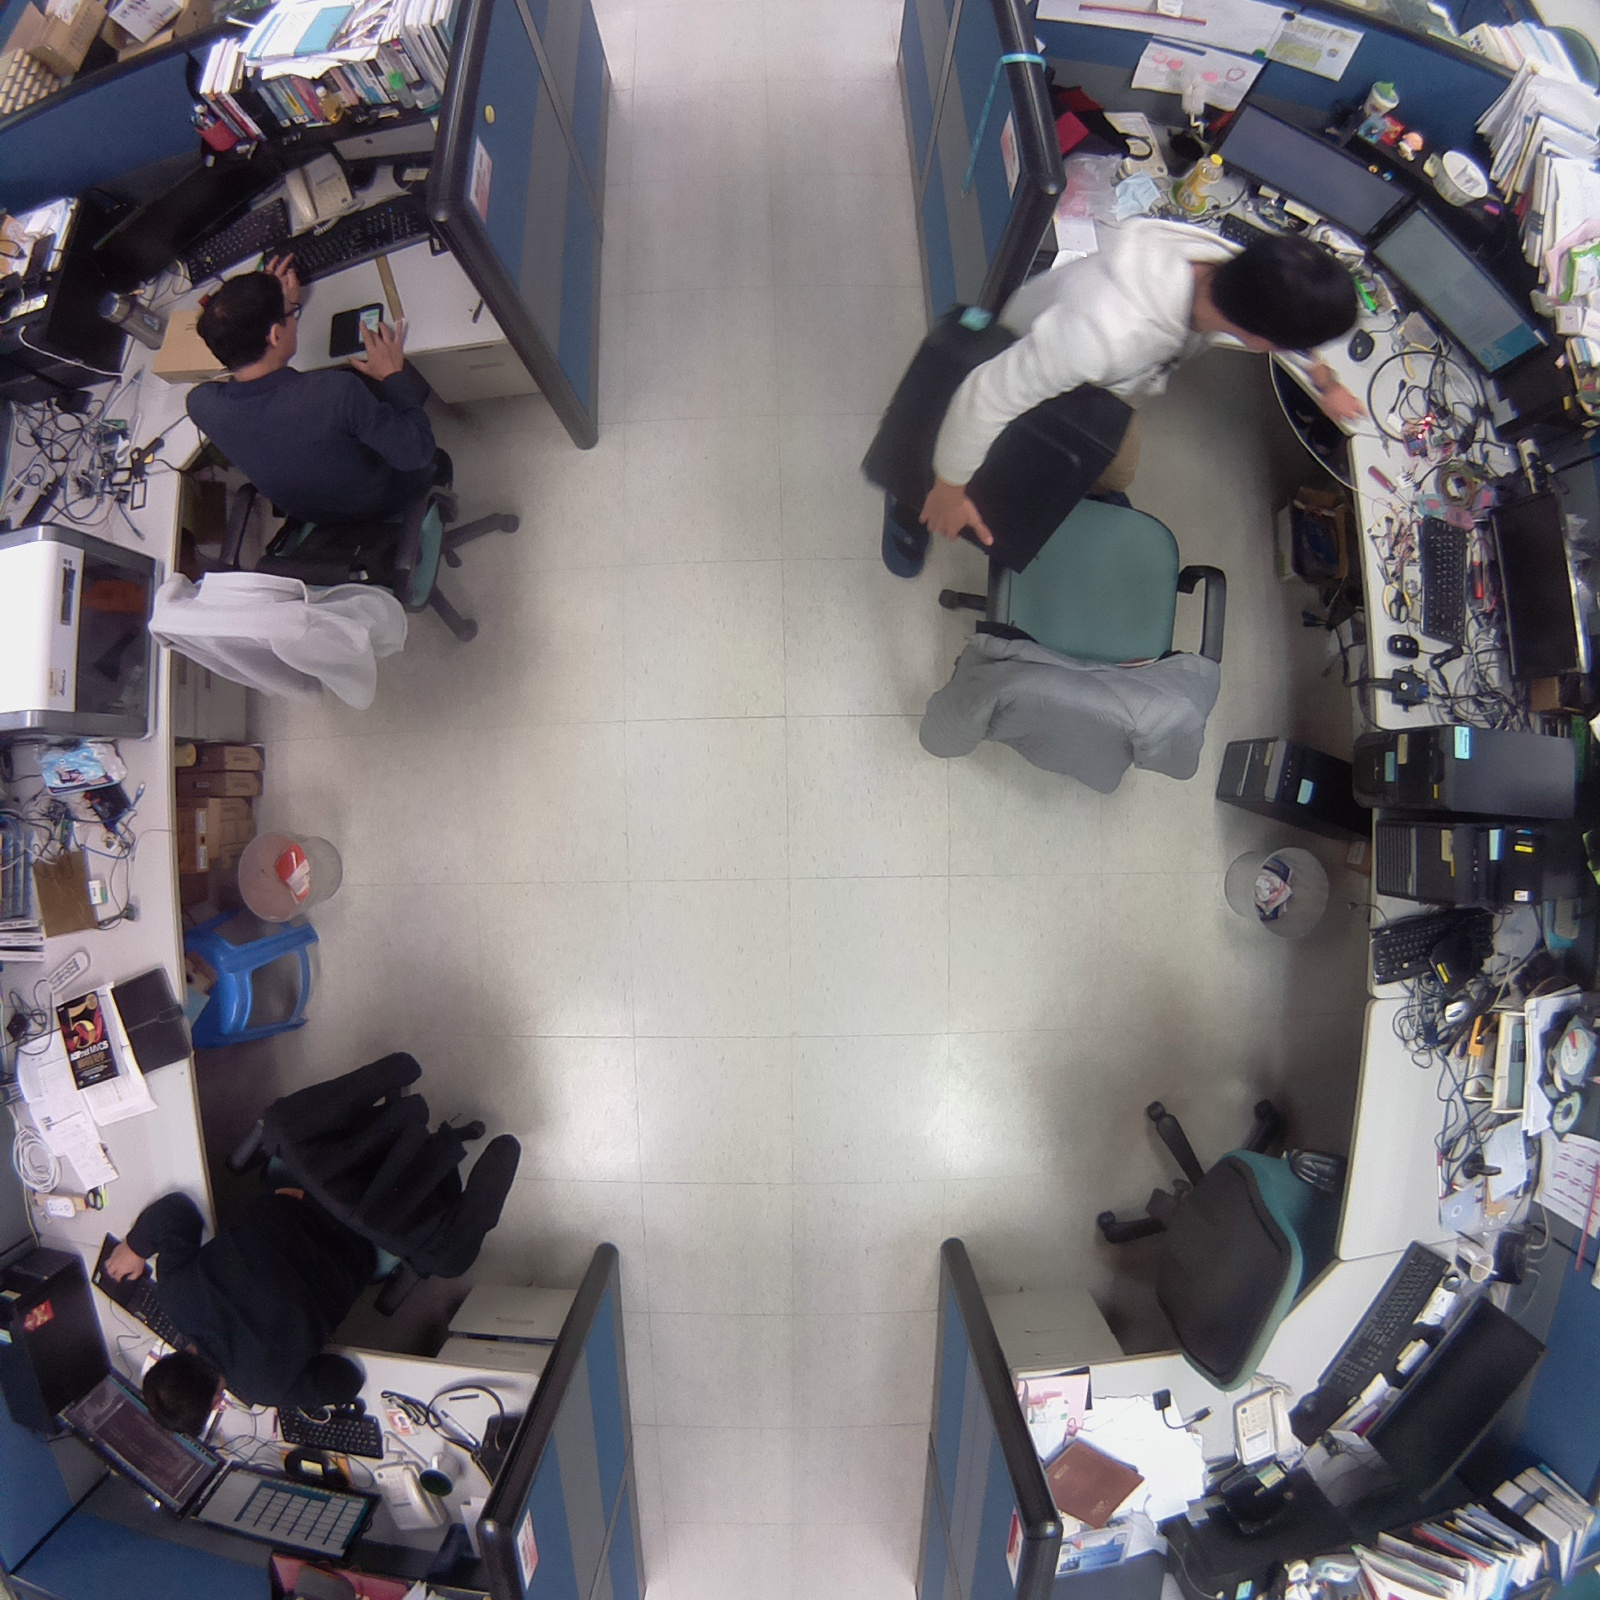chair: (894, 483, 1255, 809), (1050, 1070, 1350, 1406)
head: (1200, 227, 1370, 361), (189, 268, 306, 382), (134, 1346, 227, 1444)
sitting: (132, 264, 532, 732), (98, 1034, 535, 1440)
standing: (855, 212, 1373, 587)
